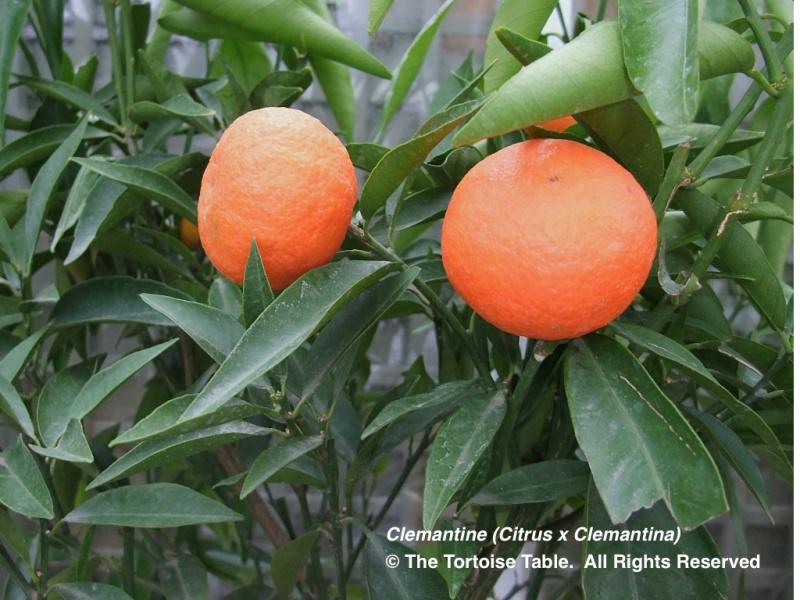Healthy Citrus: (197, 264, 381, 413), (99, 393, 275, 484), (49, 341, 178, 432), (22, 119, 91, 271), (49, 482, 249, 528), (63, 154, 191, 217), (478, 458, 583, 510)
